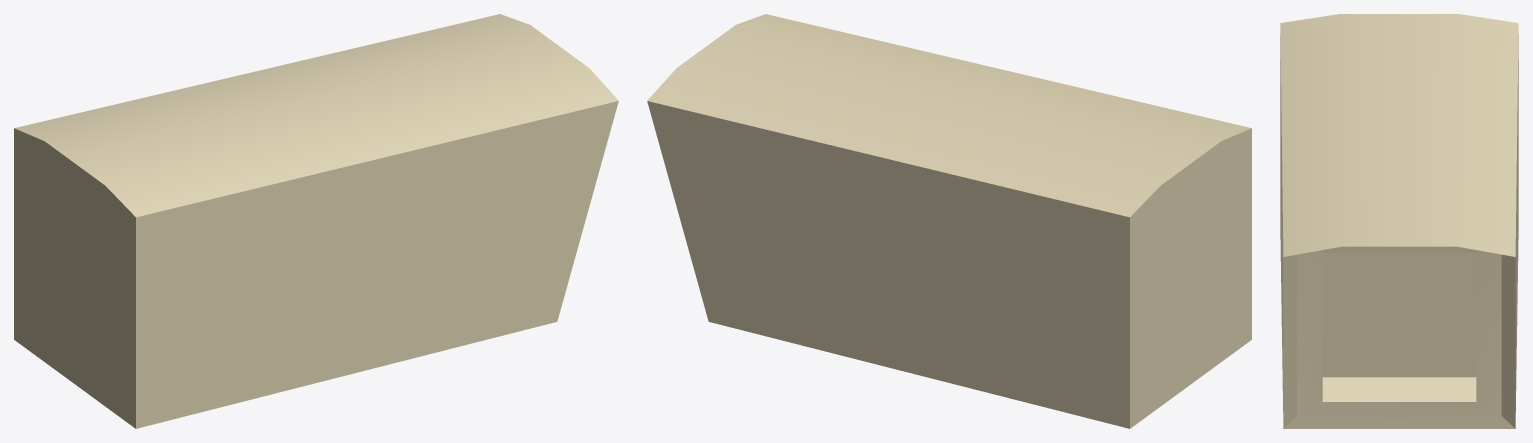
Rendered from CameraHead.fbx.
3 views of the same model, side by side, from view 1: azimuth 30°, elevation 25°; view 2: azimuth 150°, elevation 25°; view 3: azimuth 270°, elevation 25° (orthographic). The views are drawn at different scales.
Parts seen in each view (by area): view 1: Cam; view 2: Cam; view 3: Cam.
Boxes of the visible parts, x1,y1,x2,y2 form: Cam: [14, 14, 618, 428]; Cam: [647, 14, 1251, 428]; Cam: [1280, 14, 1518, 428].
Bounding box in the file's own units: 0.1375 × 0.3159 × 0.1593.
